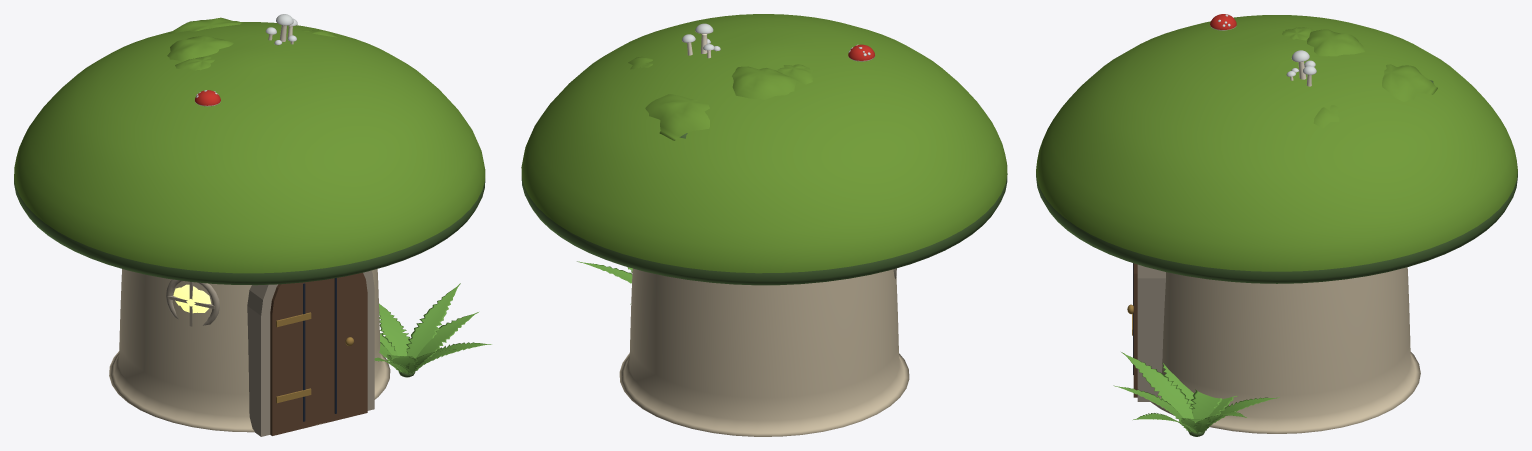
File: sh_moss_roof_cottage.fbx
The picture shows the model from 3 angles, left to right: view 1: azimuth 30°, elevation 25°; view 2: azimuth 150°, elevation 25°; view 3: azimuth 270°, elevation 25°; orthographic projection. The views are drawn at different scales.
Parts seen in each view (by area): view 1: SH_Moss_Roof_Cottage; view 2: SH_Moss_Roof_Cottage; view 3: SH_Moss_Roof_Cottage.
Part boxes in pixels (x1,y1,x2,y2): SH_Moss_Roof_Cottage: (14, 14, 491, 436); SH_Moss_Roof_Cottage: (521, 14, 1007, 436); SH_Moss_Roof_Cottage: (1036, 14, 1517, 436).
Bounding box in the file's own units: 180 × 144 × 180.
